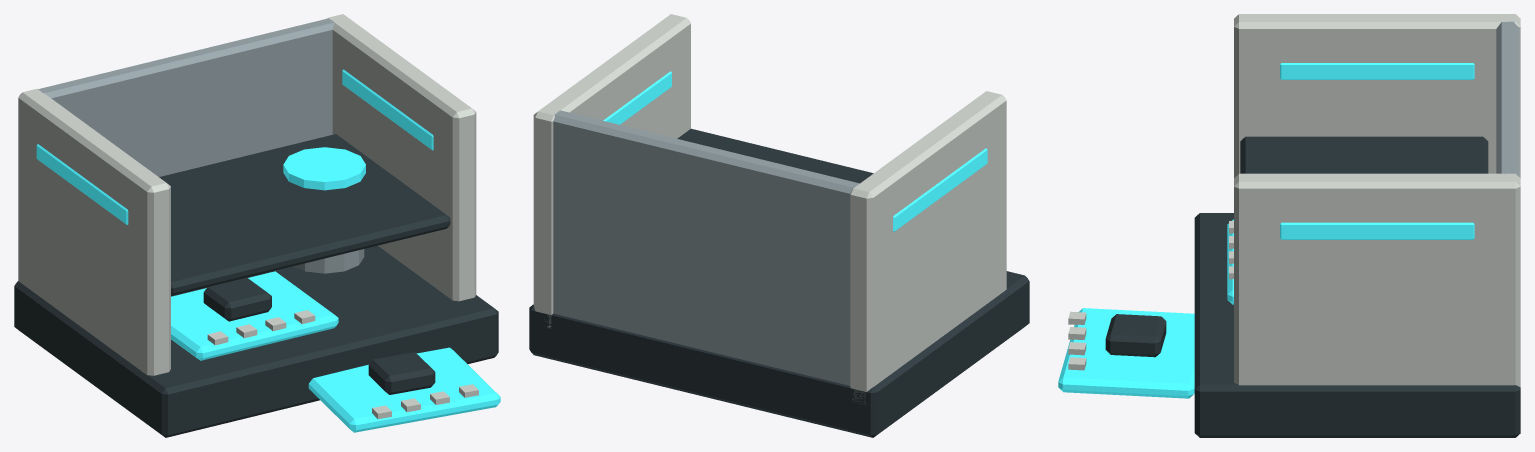
The model's file is electronics_depleted_2.glb.
The picture shows the model from 3 angles, left to right: view 1: azimuth 30°, elevation 25°; view 2: azimuth 150°, elevation 25°; view 3: azimuth 270°, elevation 25°; orthographic projection. The views are drawn at different scales.
Visible parts, largest first — view 1: electronics_depleted_2; view 2: electronics_depleted_2; view 3: electronics_depleted_2.
Part boxes in pixels (x1,y1,x2,y2): electronics_depleted_2: (14, 14, 500, 437); electronics_depleted_2: (529, 14, 1029, 437); electronics_depleted_2: (1058, 14, 1520, 437).
Bounding box in the file's own units: 0.64 × 0.43 × 0.7094.
